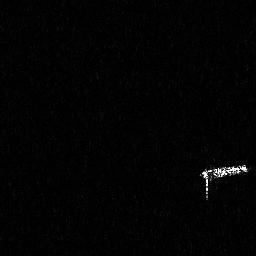ship: (197, 161, 250, 201)
